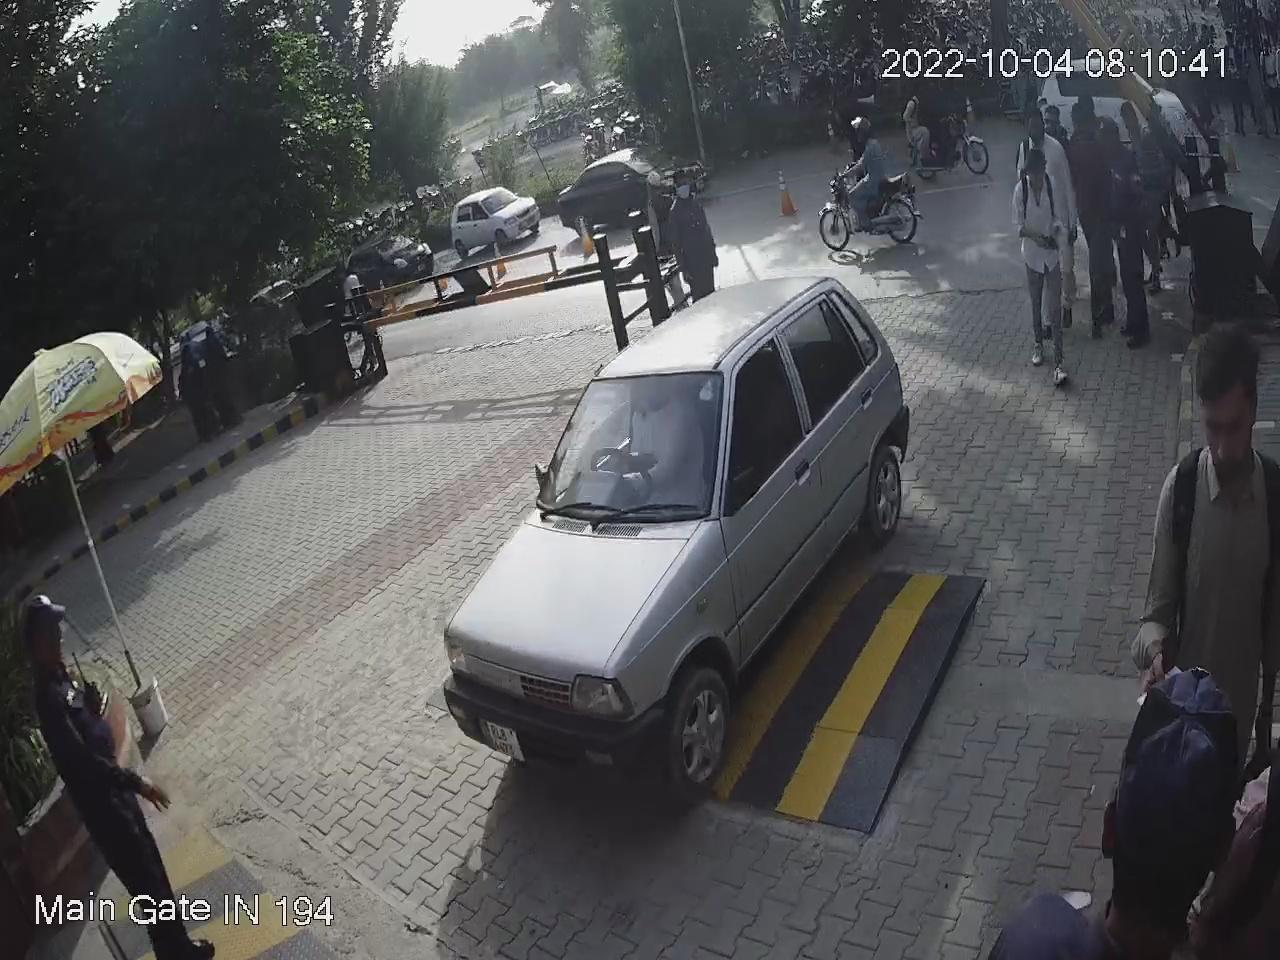windshield: (535, 362, 723, 527)
